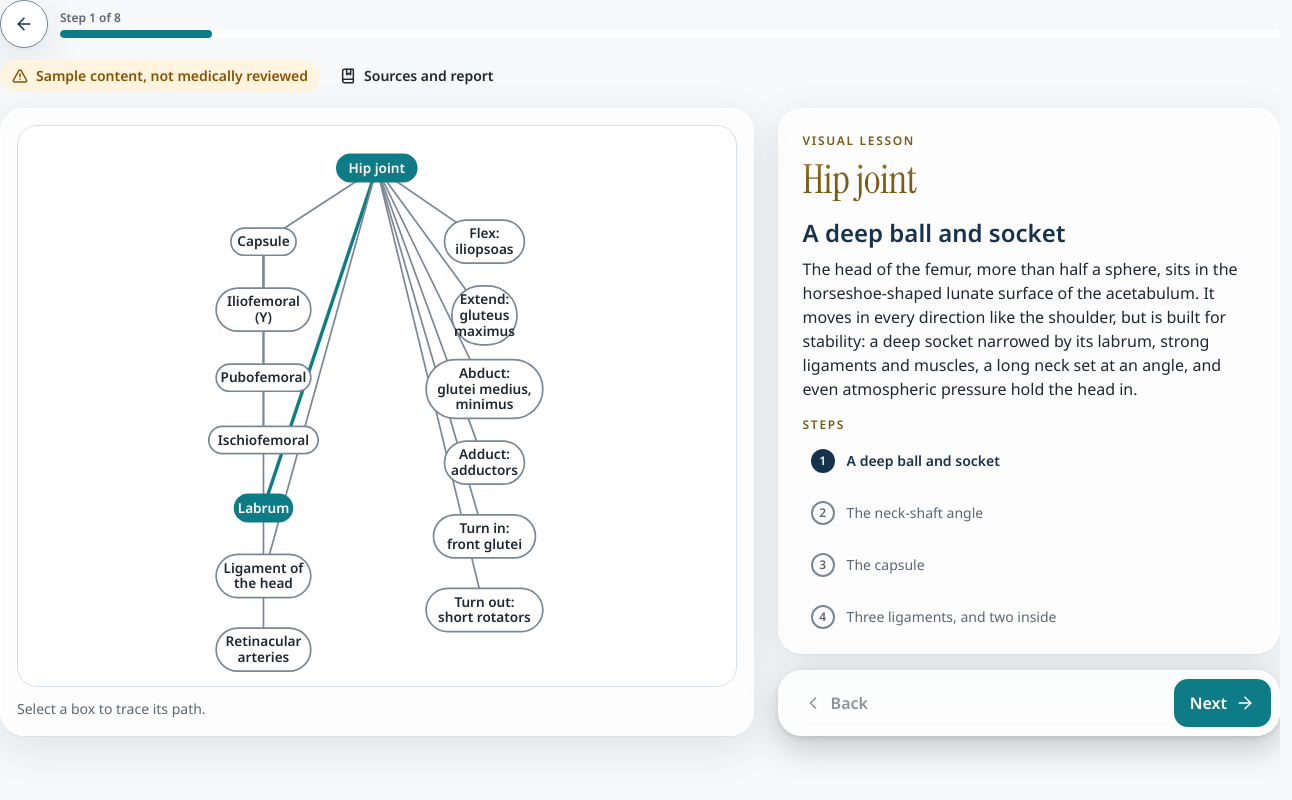
LessonView › hands over a slider for a step that names an angle, then goes back to the diagram
What coordinates should you click on to do the following:
click the button "Next"
I would click on:
 (1222, 703)
Its box is [1174,679,1271,727].
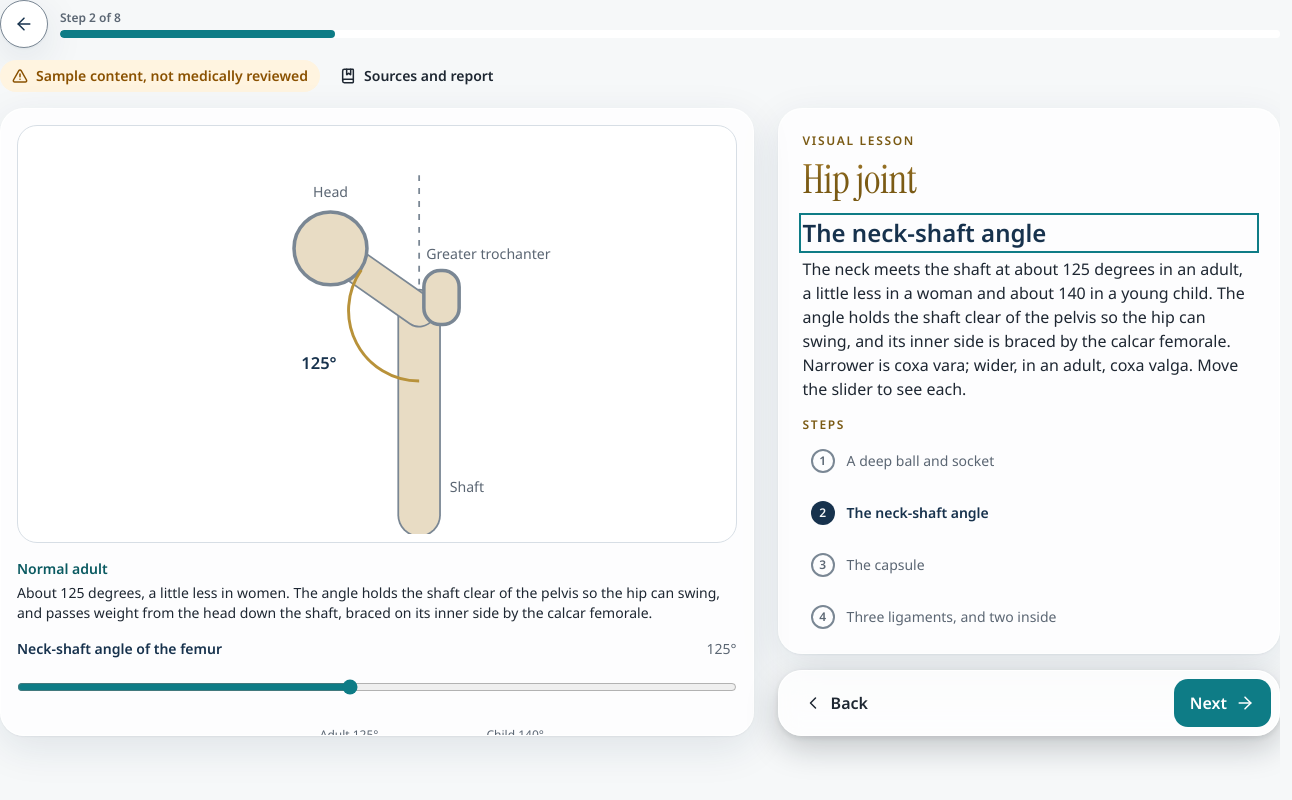
Now the heading "The neck-shaft angle" is shown, box [803,216,1046,249]
Now the slider labelled "Neck-shaft angle of the femur 125°" holds "125", box [17,663,737,711]
What coordinates should you click on to do the following:
click the button "Next"
I would click on:
 (1222, 703)
Its box is [1174,679,1271,727].
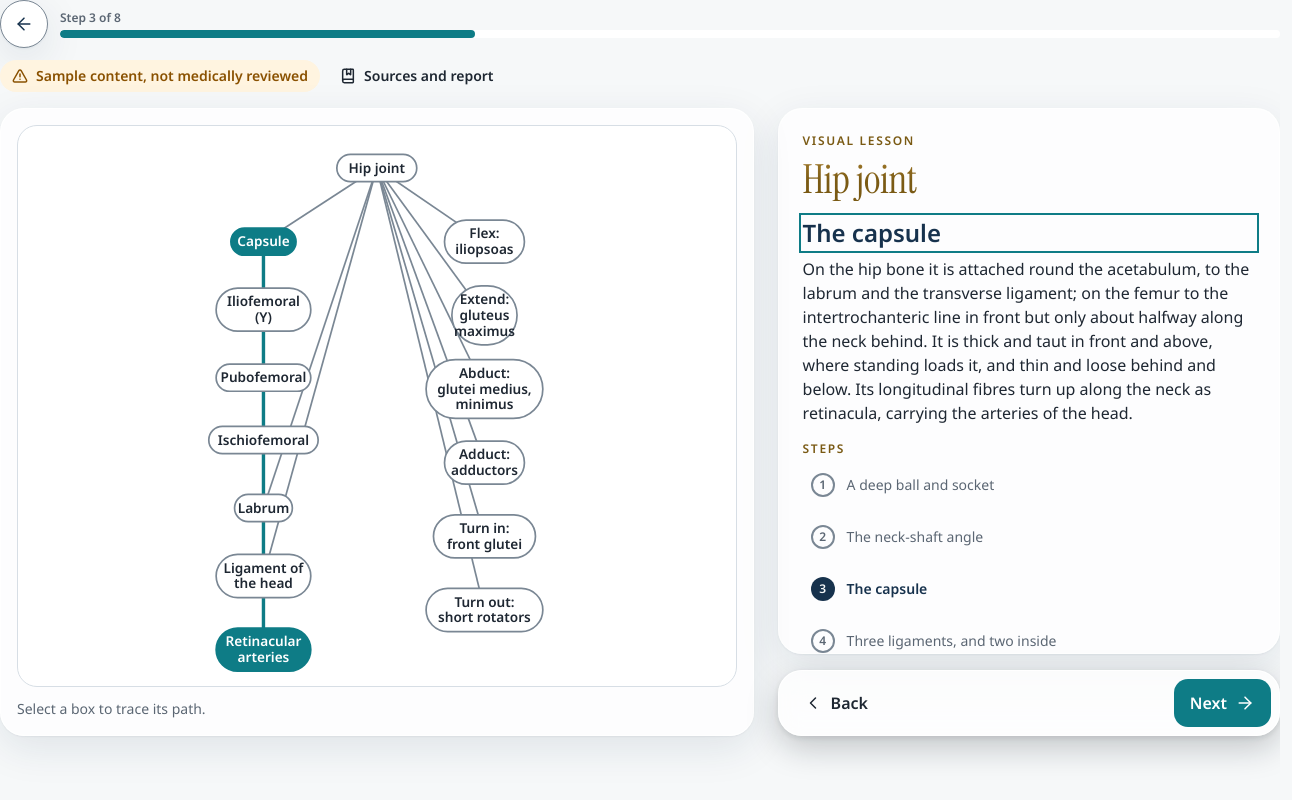
Now the slider is gone
